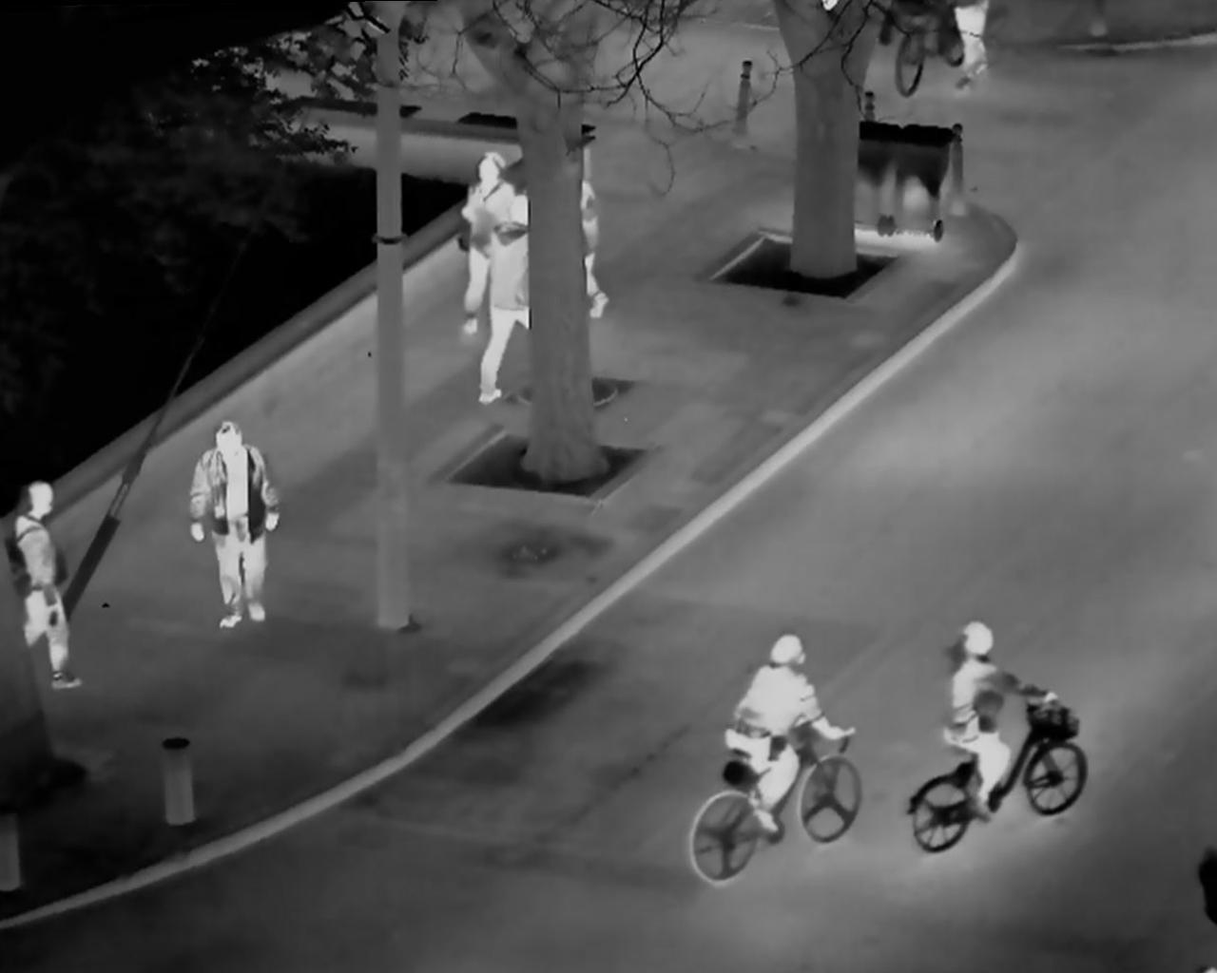person: (706, 612, 856, 864), (916, 600, 1071, 834), (176, 416, 292, 623), (472, 194, 561, 420), (12, 467, 92, 699), (442, 137, 522, 336), (937, 3, 998, 99)
